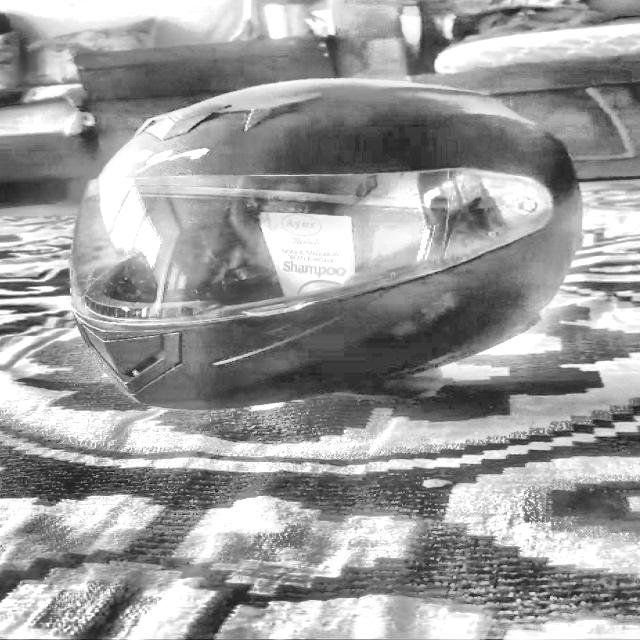Helmet: (62, 85, 589, 413)
